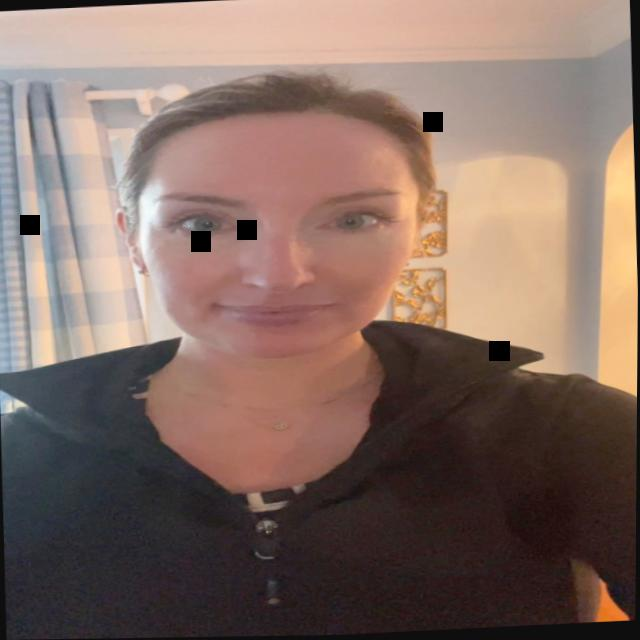NO-Mask: (115, 96, 442, 397)
